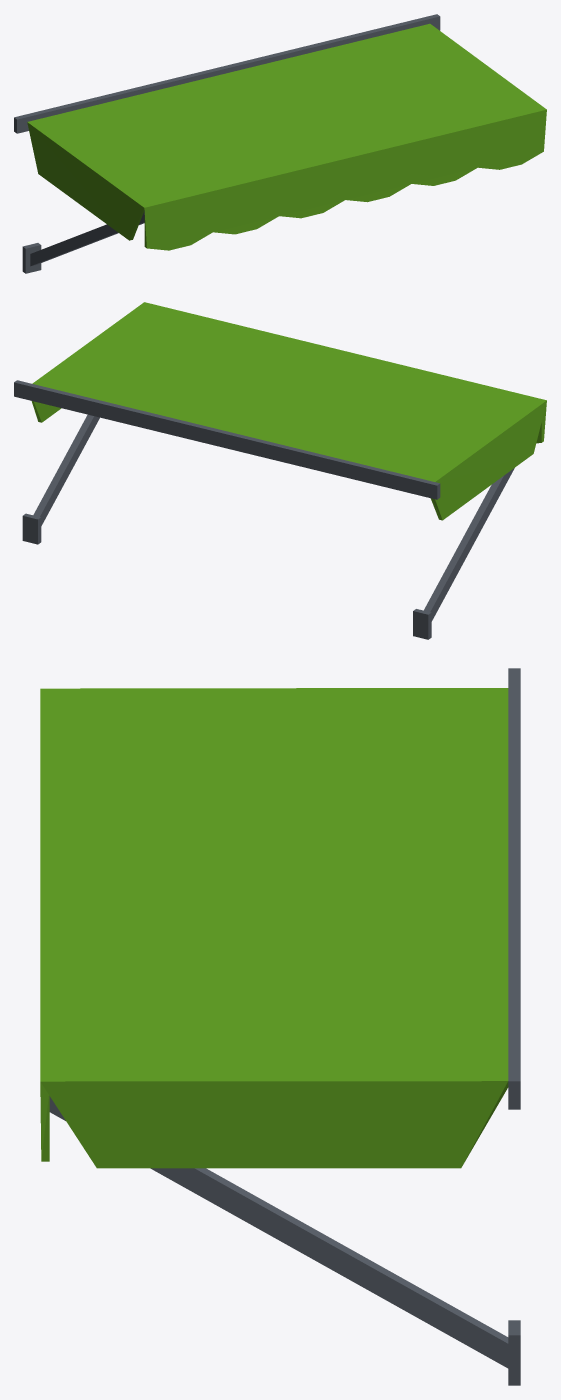
The model's file is StoreShadeB.fbx.
3 views of the same model, one above another, from view 1: azimuth 30°, elevation 25°; view 2: azimuth 150°, elevation 25°; view 3: azimuth 270°, elevation 25° (orthographic). The views are drawn at different scales.
Visible parts, largest first — view 1: StoreShadeB; view 2: StoreShadeB; view 3: StoreShadeB.
Boxes of the visible parts, x1=… form: StoreShadeB: x1=14, y1=14, x2=546, y2=273; StoreShadeB: x1=14, y1=302, x2=546, y2=639; StoreShadeB: x1=40, y1=668, x2=520, y2=1385.
Size of the model in its own units: 320 by 113 by 157.
